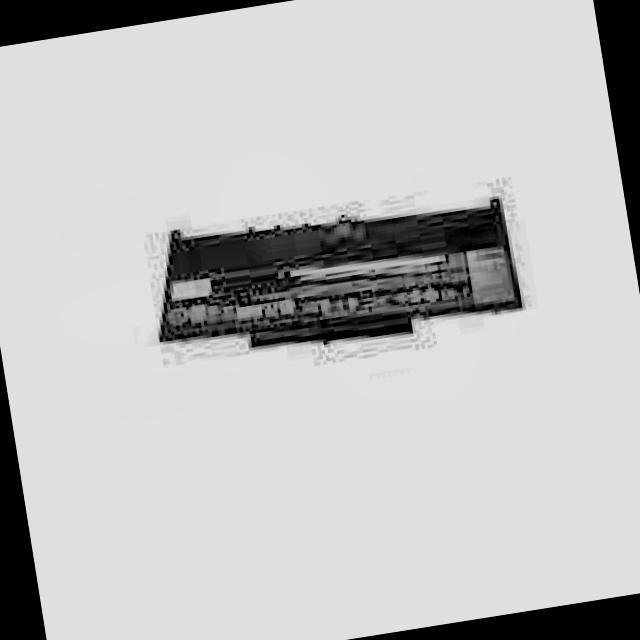Battery: (138, 182, 534, 388)
